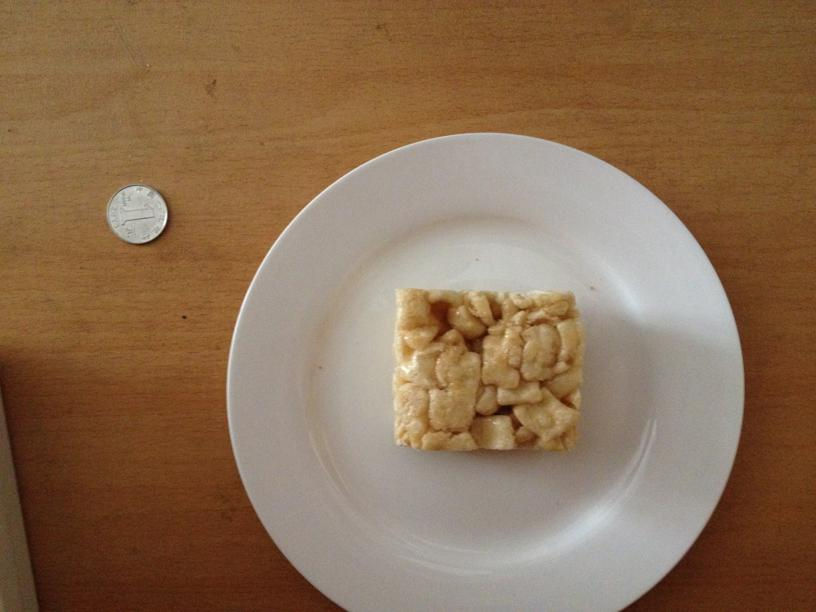coin: (102, 184, 170, 243)
sachima: (386, 287, 582, 451)
